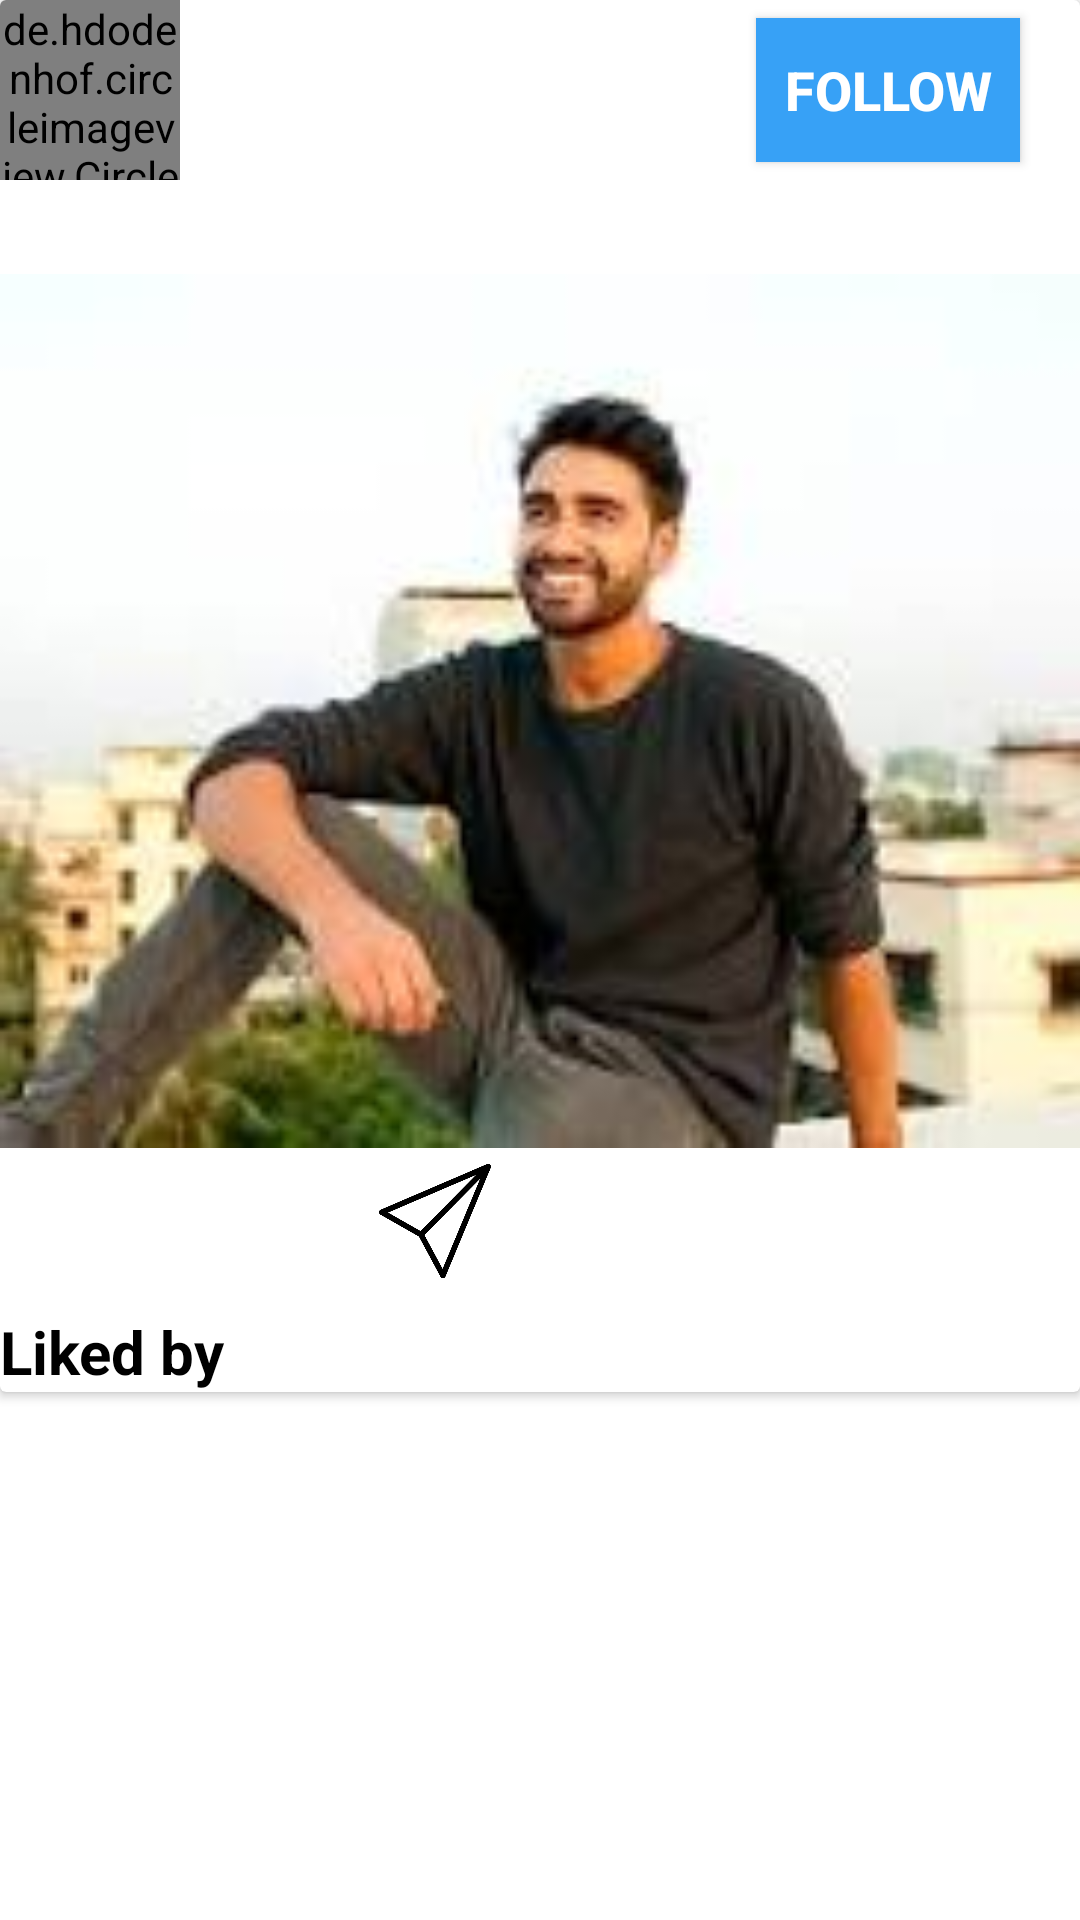

Icons on this 1080 × 1920 Android screen, each with its box as (x1, y1, x2, y2):
sent: (379, 1164, 491, 1278)
